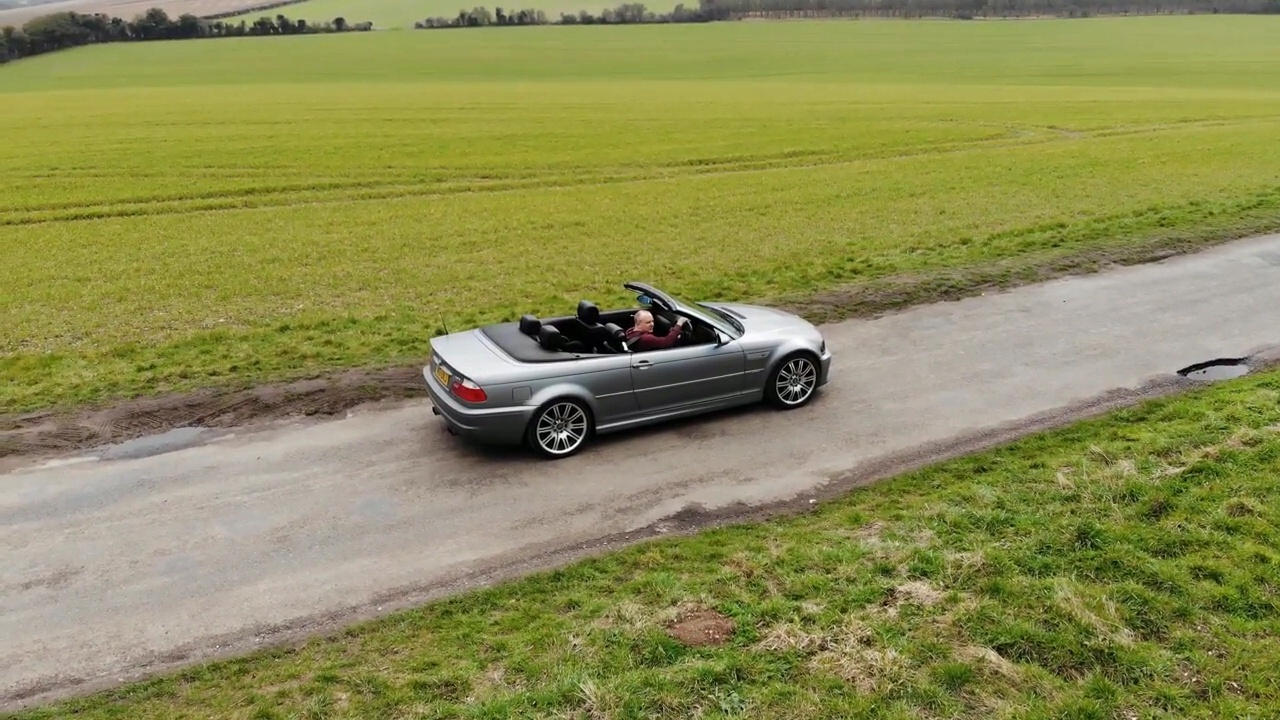araba: (420, 279, 836, 459)
